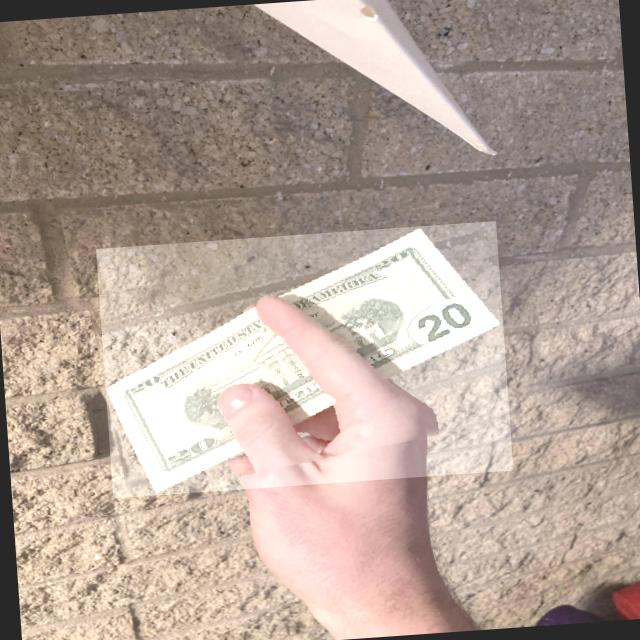twenty: (100, 213, 503, 495)
